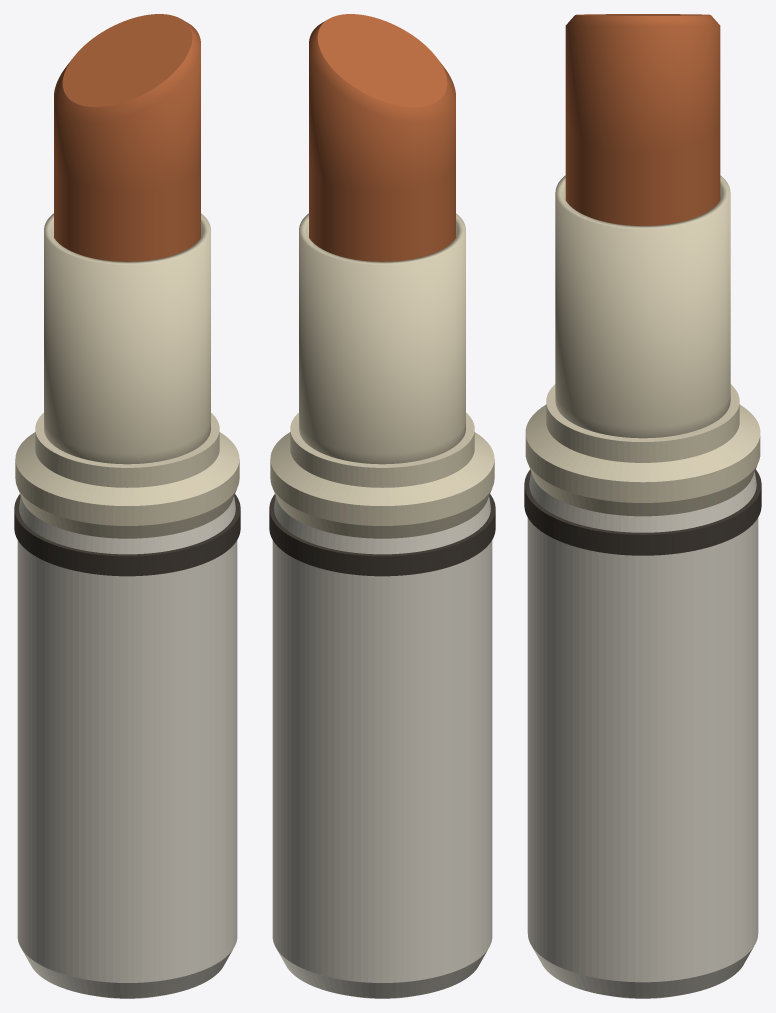
File: A-NEW-20261026-OPEN-LIPSTICK-001_LOD0_R1.fbx
3 renders of one model, left to right at view 1: azimuth 30°, elevation 25°; view 2: azimuth 150°, elevation 25°; view 3: azimuth 270°, elevation 25°, orthographic. The views are drawn at different scales.
Visible parts, largest first — view 1: rounded lipstick base, open inner sleeve, slanted rounded lipstick bullet, stepped metallic collar, contrasting trim; view 2: rounded lipstick base, open inner sleeve, slanted rounded lipstick bullet, stepped metallic collar, contrasting trim; view 3: rounded lipstick base, open inner sleeve, slanted rounded lipstick bullet, stepped metallic collar, contrasting trim.
Part boxes in pixels (x1,y1,x2,y2): rounded lipstick base: (17, 496, 237, 998); open inner sleeve: (44, 213, 210, 464); slanted rounded lipstick bullet: (54, 14, 200, 261); stepped metallic collar: (15, 413, 239, 538); contrasting trim: (14, 494, 240, 576); rounded lipstick base: (272, 496, 492, 998); open inner sleeve: (299, 213, 465, 464); slanted rounded lipstick bullet: (309, 14, 455, 261); stepped metallic collar: (270, 413, 494, 538); contrasting trim: (269, 494, 495, 576); rounded lipstick base: (527, 472, 758, 998); open inner sleeve: (555, 175, 730, 438); slanted rounded lipstick bullet: (565, 14, 720, 225); stepped metallic collar: (525, 384, 760, 516); contrasting trim: (524, 469, 761, 555).
Bounding box in the file's own units: 2.06 × 9.37 × 2.06.
